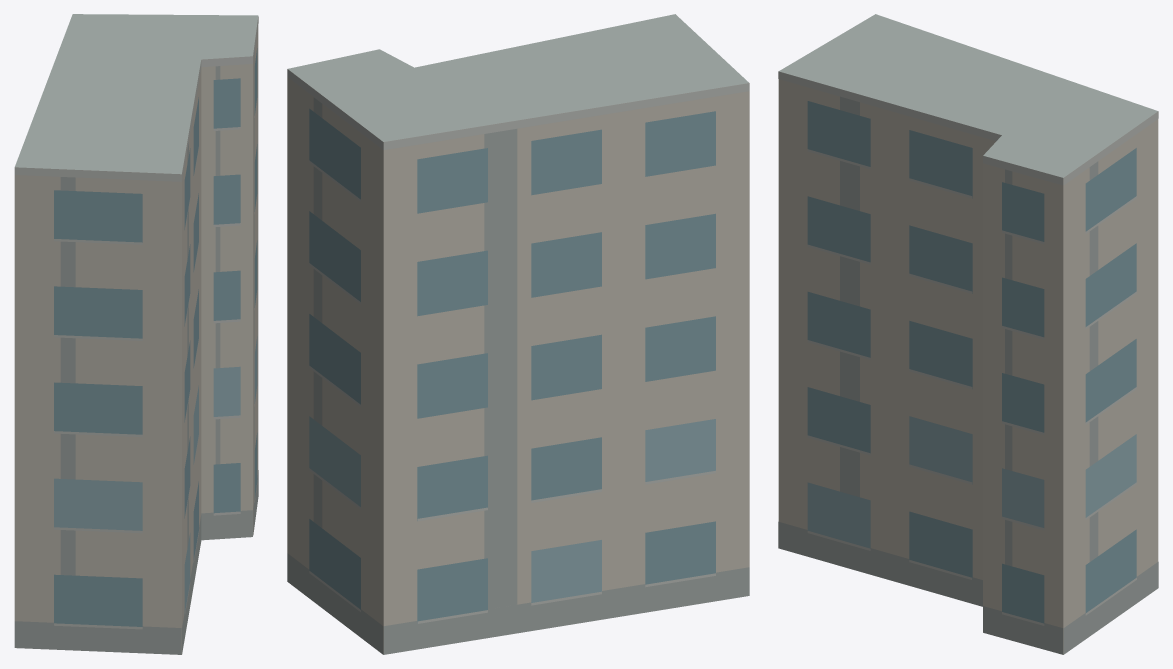
The model's file is survey-upis-32910489.glb.
3 renders of one model, left to right at view 1: azimuth 30°, elevation 25°; view 2: azimuth 150°, elevation 25°; view 3: azimuth 270°, elevation 25°, orthographic. The views are drawn at different scales.
Visible parts, largest first — view 1: survey-upis-32910489.tmp; view 2: survey-upis-32910489.tmp; view 3: survey-upis-32910489.tmp.
Part boxes in pixels (box(x1,y1,x2,y2)): survey-upis-32910489.tmp: box(14, 14, 258, 654); survey-upis-32910489.tmp: box(287, 14, 749, 654); survey-upis-32910489.tmp: box(778, 14, 1158, 654).
Bounding box in the file's own units: 11.25 × 15.25 × 11.02.
